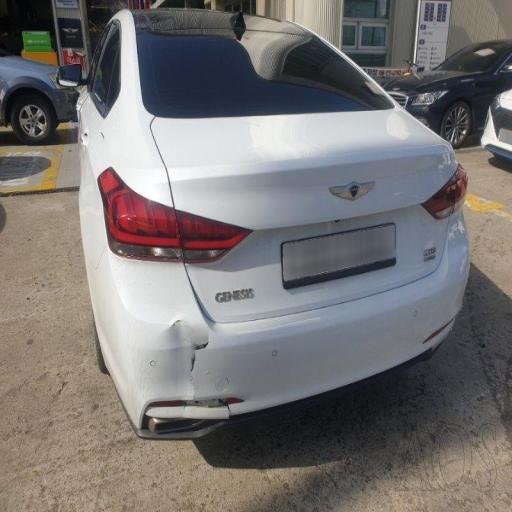broken: (122, 248, 248, 434)
